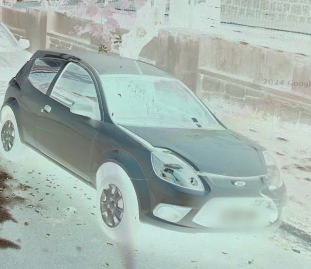car: (1, 50, 290, 246)
